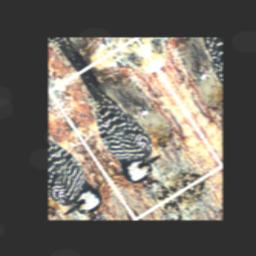Woodpecker: (58, 50, 188, 193)
